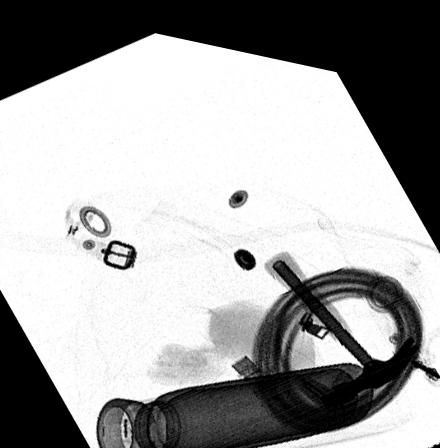Hammer: (262, 236, 420, 389)
